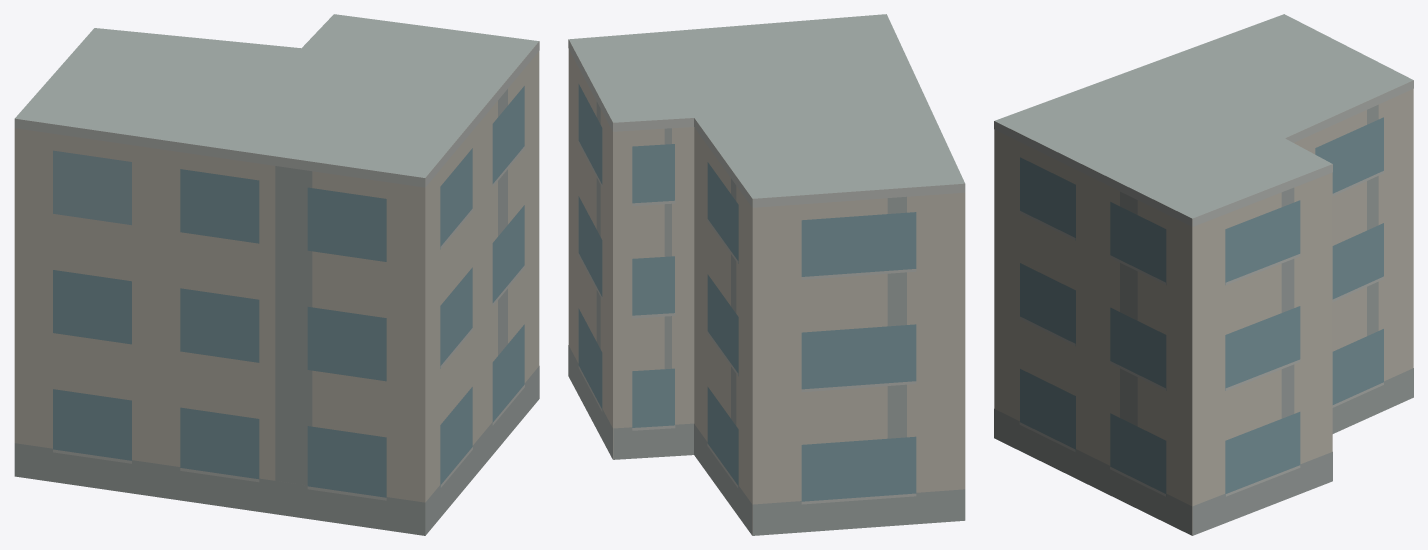
Rendered from survey-upis-32724324.glb.
3 renders of one model, left to right at view 1: azimuth 30°, elevation 25°; view 2: azimuth 150°, elevation 25°; view 3: azimuth 270°, elevation 25°, orthographic. The views are drawn at different scales.
Visible parts, largest first — view 1: survey-upis-32724324.tmp; view 2: survey-upis-32724324.tmp; view 3: survey-upis-32724324.tmp.
Part boxes in pixels (x1,y1,x2,y2): survey-upis-32724324.tmp: (14, 14, 539, 535); survey-upis-32724324.tmp: (568, 14, 965, 535); survey-upis-32724324.tmp: (994, 14, 1413, 535).
Size of the model in its own units: 12.67 by 9.15 by 10.98.
